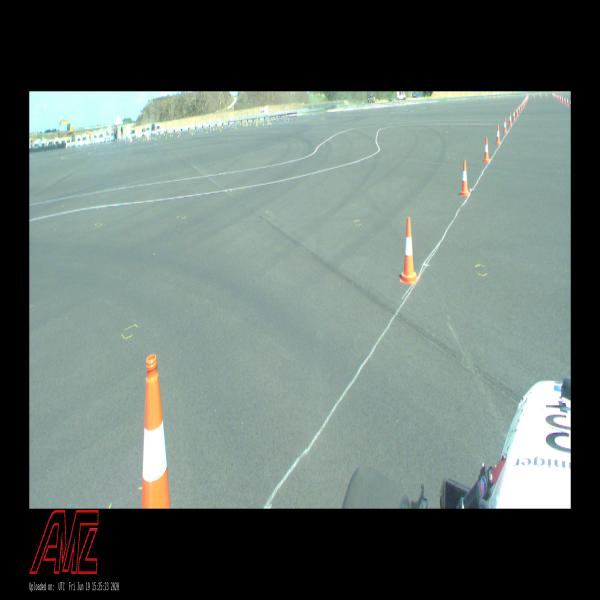orange_cone: (400, 217, 418, 284), (460, 160, 469, 196), (484, 138, 490, 162), (496, 125, 501, 144), (503, 117, 507, 133), (512, 109, 516, 121), (509, 113, 512, 126), (516, 106, 518, 116), (518, 104, 520, 113)
